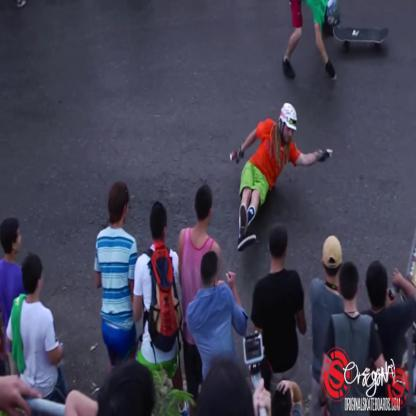Fall_Down: (229, 101, 336, 256)
